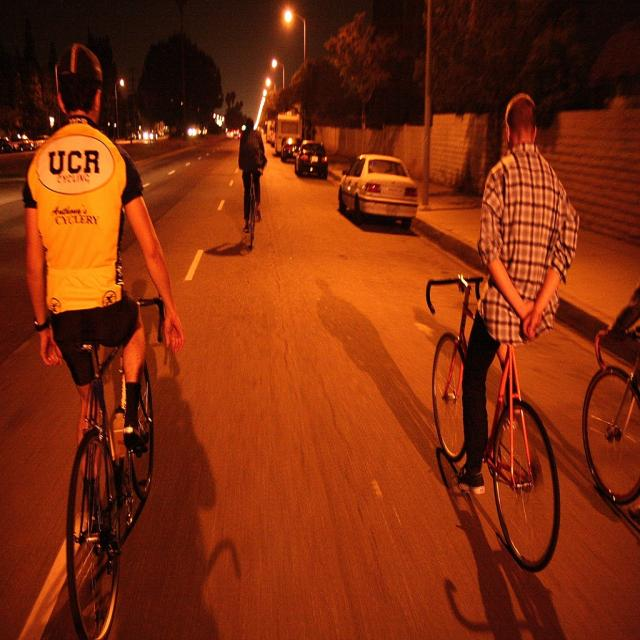car: (338, 150, 418, 222)
